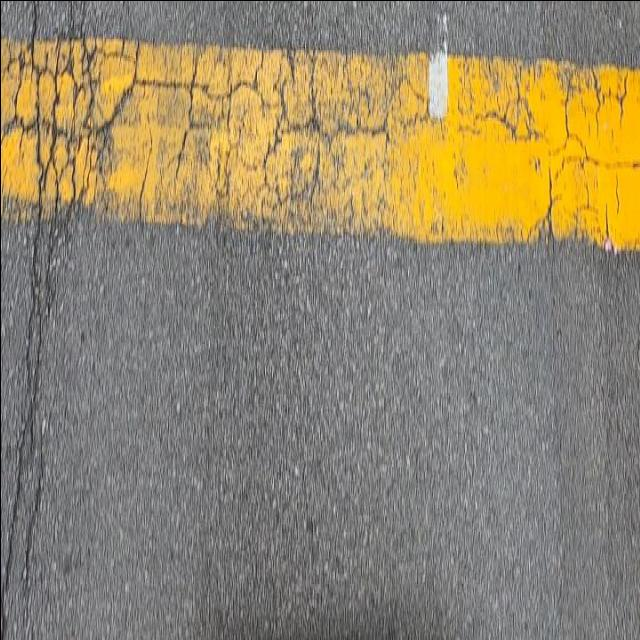cracks: (137, 32, 640, 278), (0, 0, 135, 640)
